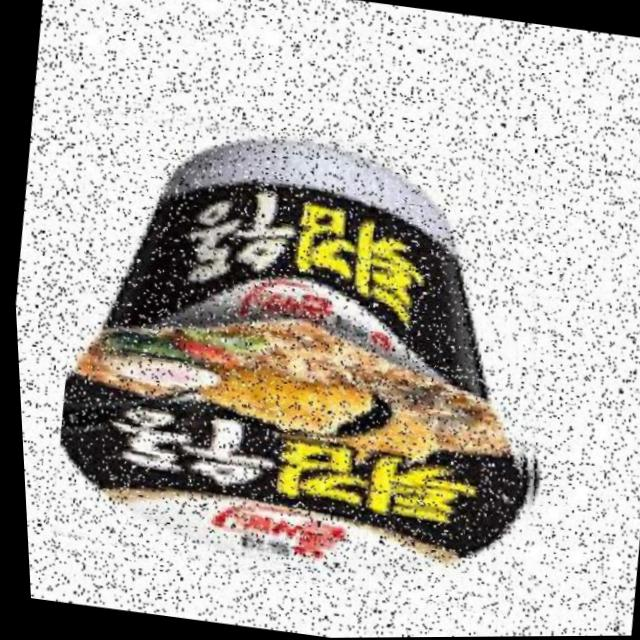Miscellaneous: (25, 99, 586, 617)
